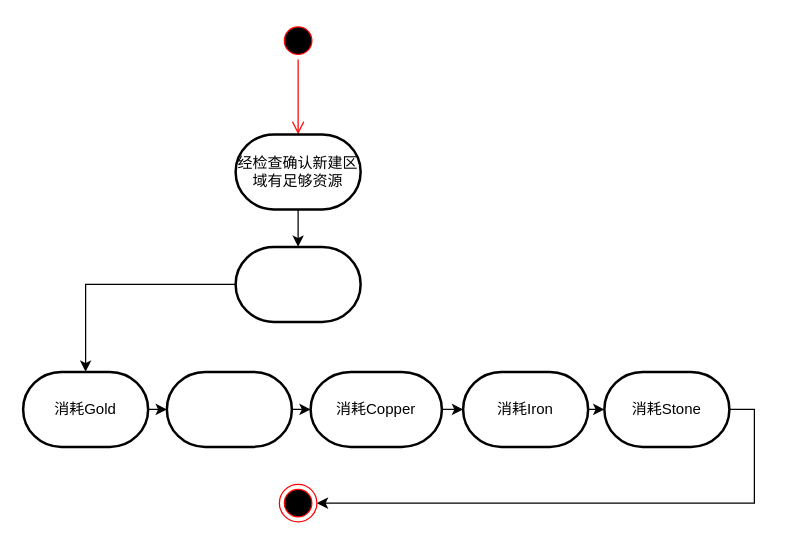
This 786x544 diagram has some shape labels left out. Each missing label, with the centre of its shape:
消耗Wood: the point at 228,409
进行资源消耗: the point at 297,283
